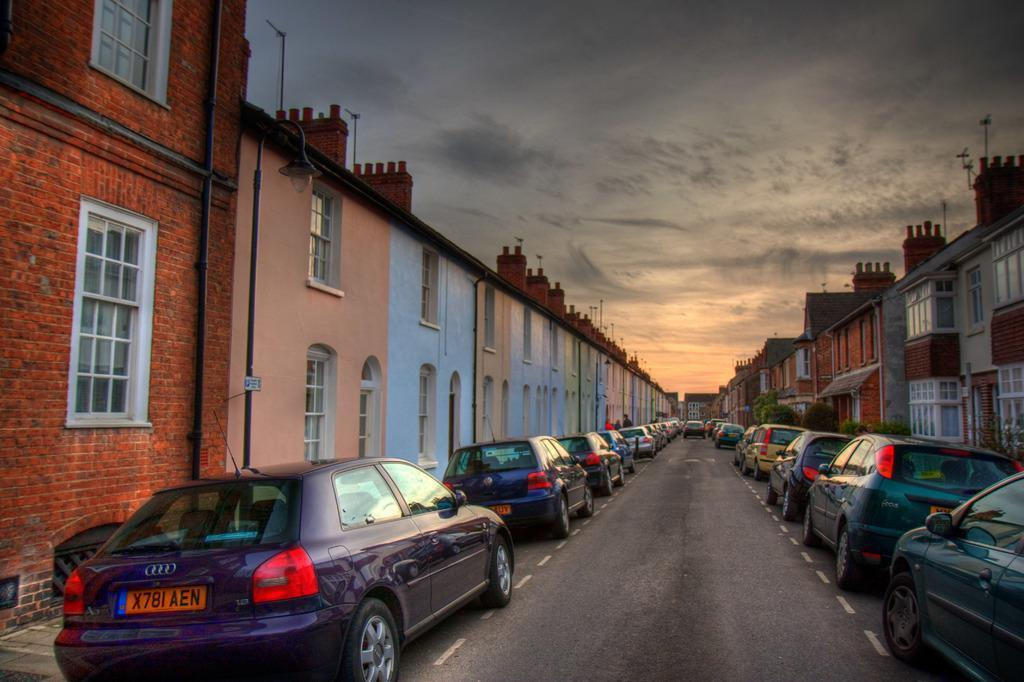Car: (41, 448, 518, 662), (814, 374, 984, 605), (882, 447, 1024, 674), (429, 414, 596, 552), (782, 391, 859, 533), (541, 372, 626, 487), (654, 399, 740, 457), (753, 391, 785, 494)
Number plate: (111, 584, 215, 624), (490, 500, 513, 521)
